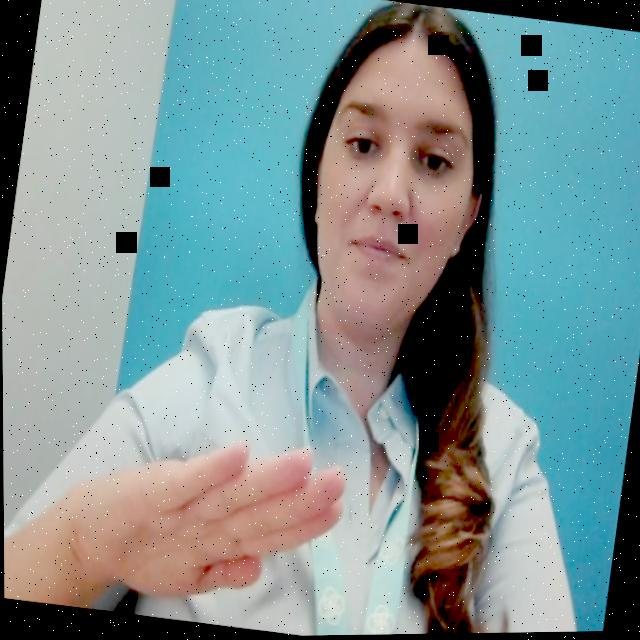Paper: (95, 411, 366, 639)
